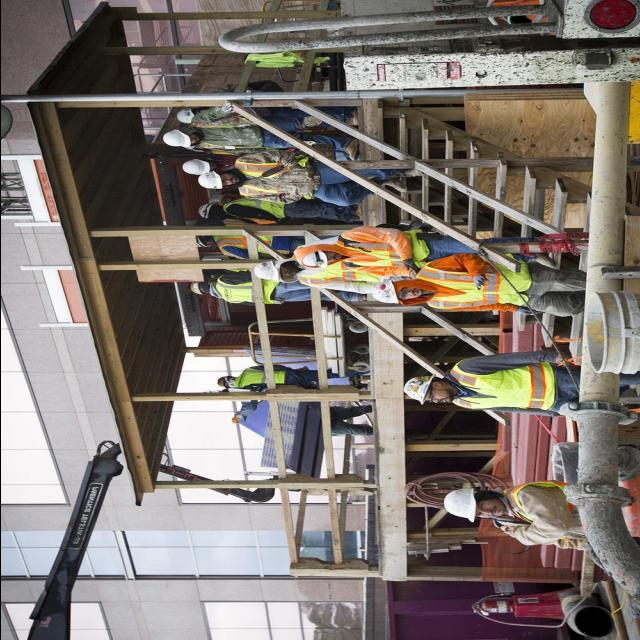helmet: (438, 483, 482, 525), (396, 368, 436, 412), (365, 275, 399, 309), (288, 243, 328, 271), (158, 124, 192, 152), (248, 258, 284, 284), (196, 170, 232, 196), (164, 106, 198, 130), (190, 200, 217, 223), (176, 159, 208, 176), (214, 372, 232, 394), (181, 282, 205, 298)
jacket: (493, 480, 635, 549), (412, 253, 540, 320), (442, 350, 559, 420), (231, 150, 324, 204), (333, 223, 427, 274), (213, 273, 286, 307), (236, 364, 289, 395)
